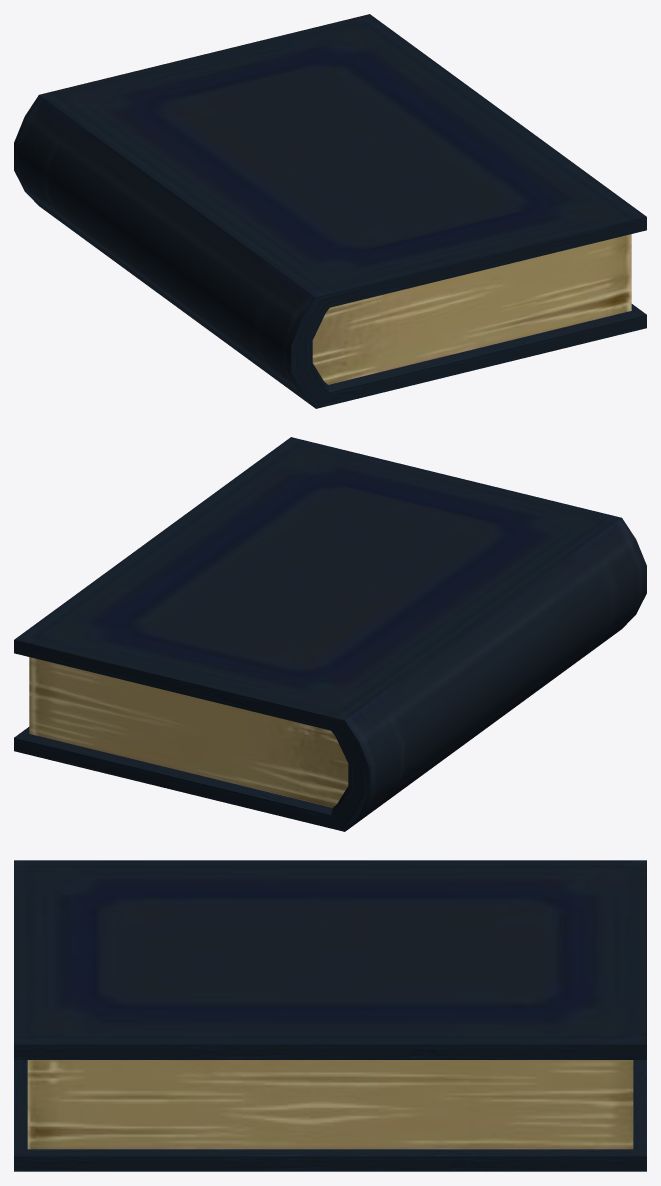
Rendered from quaternius-fantasy-props-book-5.glb.
The picture shows the model from 3 angles, top to bottom: view 1: azimuth 30°, elevation 25°; view 2: azimuth 150°, elevation 25°; view 3: azimuth 270°, elevation 25°; orthographic projection. The views are drawn at different scales.
Parts seen in each view (by area): view 1: Book_5; view 2: Book_5; view 3: Book_5.
Boxes of the visible parts, x1,y1,x2,y2 form: Book_5: (14,14,646,408); Book_5: (14,437,646,831); Book_5: (14,860,646,1171).
Size of the model in its own units: 0.2225 by 0.0665 by 0.3.
Materials: 1 (1 with a texture image).
